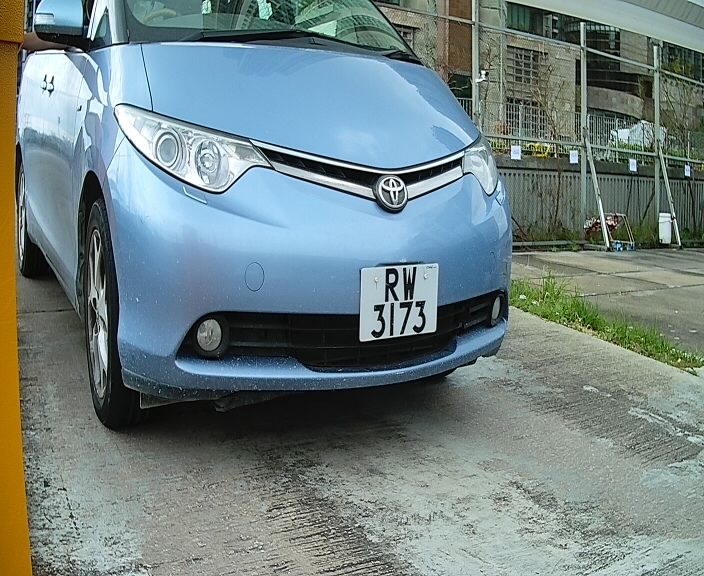License Plate: (350, 253, 449, 349)
